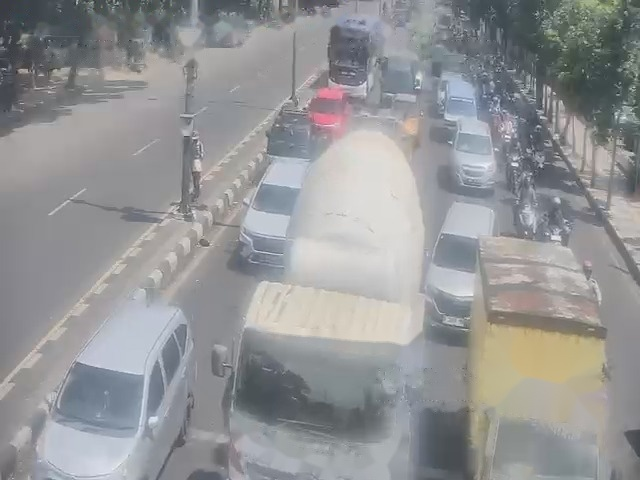Bis: (329, 19, 372, 100)
Mobil: (47, 294, 187, 480), (427, 200, 499, 333), (243, 159, 307, 270), (261, 109, 330, 171), (448, 118, 496, 192), (439, 78, 477, 129)
Motor: (523, 130, 544, 177), (517, 202, 539, 238), (506, 153, 521, 195)
Truk: (212, 130, 425, 479), (427, 236, 618, 478)
